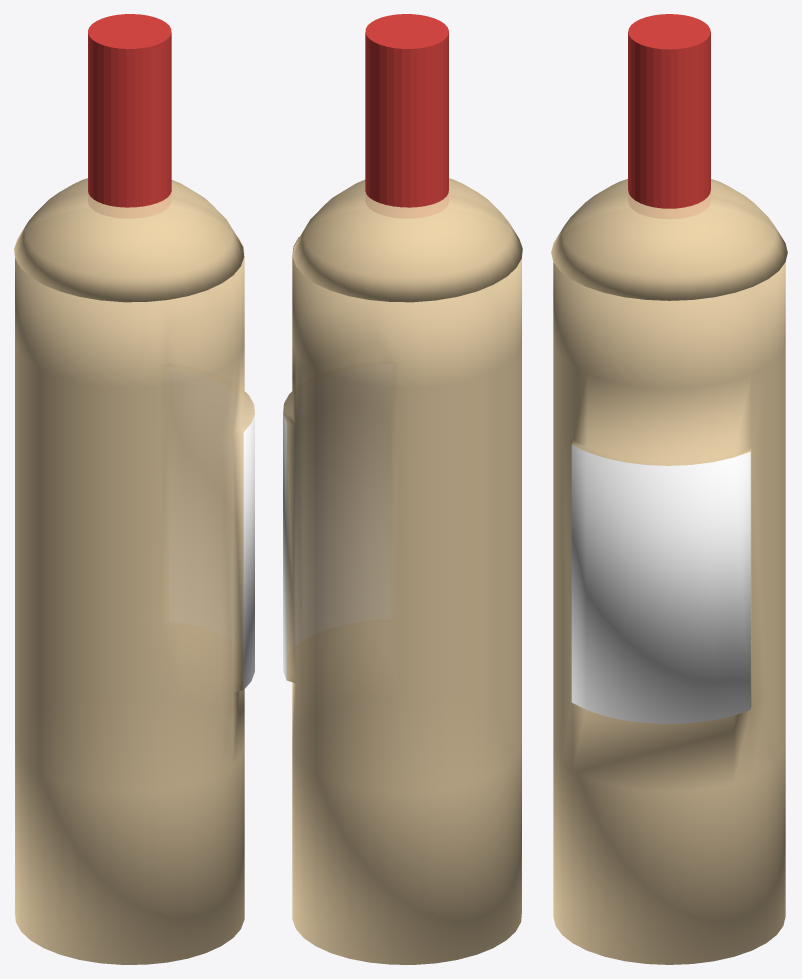
Rendered from Cokito_Botle.fbx.
The picture shows the model from 3 angles, left to right: view 1: azimuth 30°, elevation 25°; view 2: azimuth 150°, elevation 25°; view 3: azimuth 270°, elevation 25°; orthographic projection.
Parts seen in each view (by area): view 1: cokito; view 2: cokito; view 3: cokito.
Part boxes in pixels (<box>): cokito: <box>14,14,254,964</box>; cokito: <box>283,14,522,964</box>; cokito: <box>551,14,787,964</box>.
Size of the model in its own units: 44.33 by 180 by 43.57.
